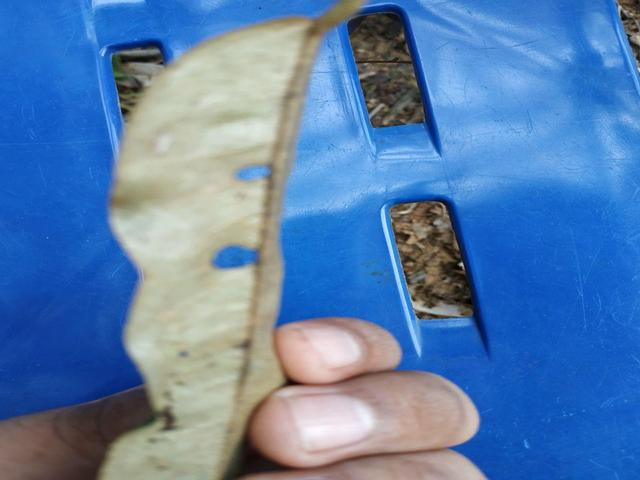blight spot: (209, 228, 270, 281), (222, 153, 276, 193)
